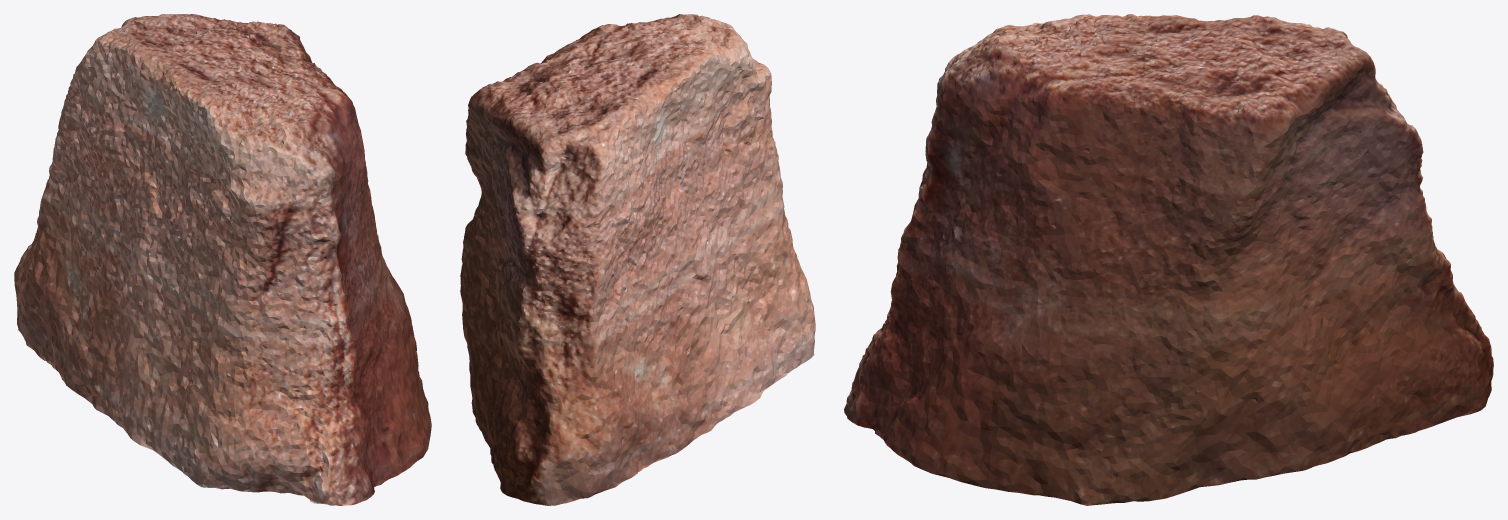
Rendered from Colorful sandstone rock.fbx.
3 renders of one model, left to right at view 1: azimuth 30°, elevation 25°; view 2: azimuth 150°, elevation 25°; view 3: azimuth 270°, elevation 25°, orthographic. The views are drawn at different scales.
Visible parts, largest first — view 1: Mesh_0; view 2: Mesh_0; view 3: Mesh_0.
Boxes of the visible parts, x1,y1,x2,y2 form: Mesh_0: (14, 14, 431, 505); Mesh_0: (460, 14, 815, 505); Mesh_0: (844, 14, 1493, 505).
Size of the model in its own units: 61.87 by 72.73 by 113.
1 material, 1 textured.
